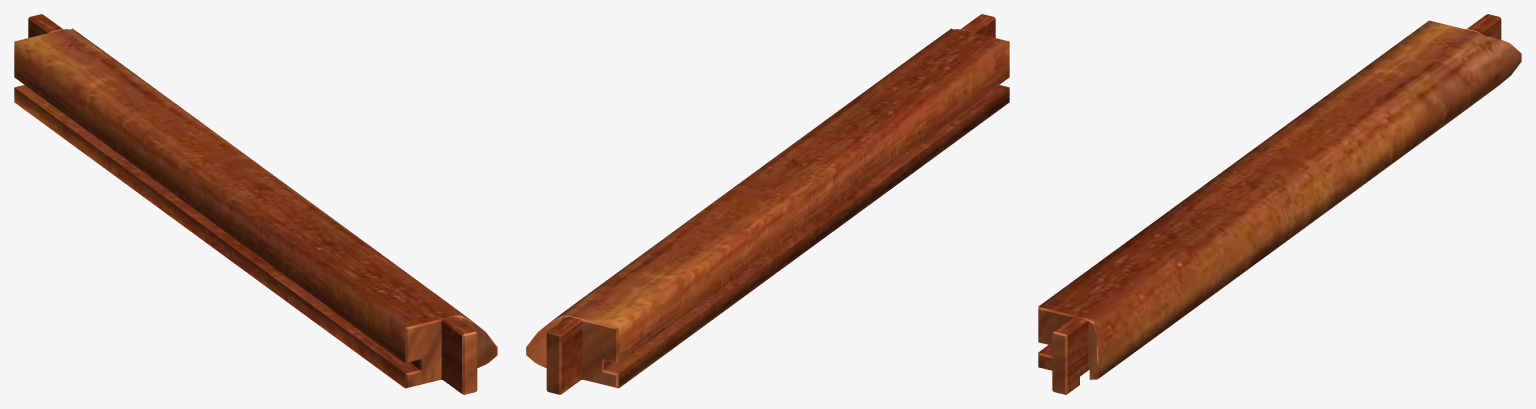
File: SJ_J_motou_2_02.FBX
The picture shows the model from 3 angles, left to right: view 1: azimuth 30°, elevation 25°; view 2: azimuth 150°, elevation 25°; view 3: azimuth 330°, elevation 25°; orthographic projection.
Visible parts, largest first — view 1: SJ_J_motou_2_02; view 2: SJ_J_motou_2_02; view 3: SJ_J_motou_2_02.
Part boxes in pixels (x1,y1,x2,y2): SJ_J_motou_2_02: (14,14,497,394); SJ_J_motou_2_02: (526,14,1009,394); SJ_J_motou_2_02: (1038,14,1521,394).
Size of the model in its own units: 3.94 by 3 by 38.93.
